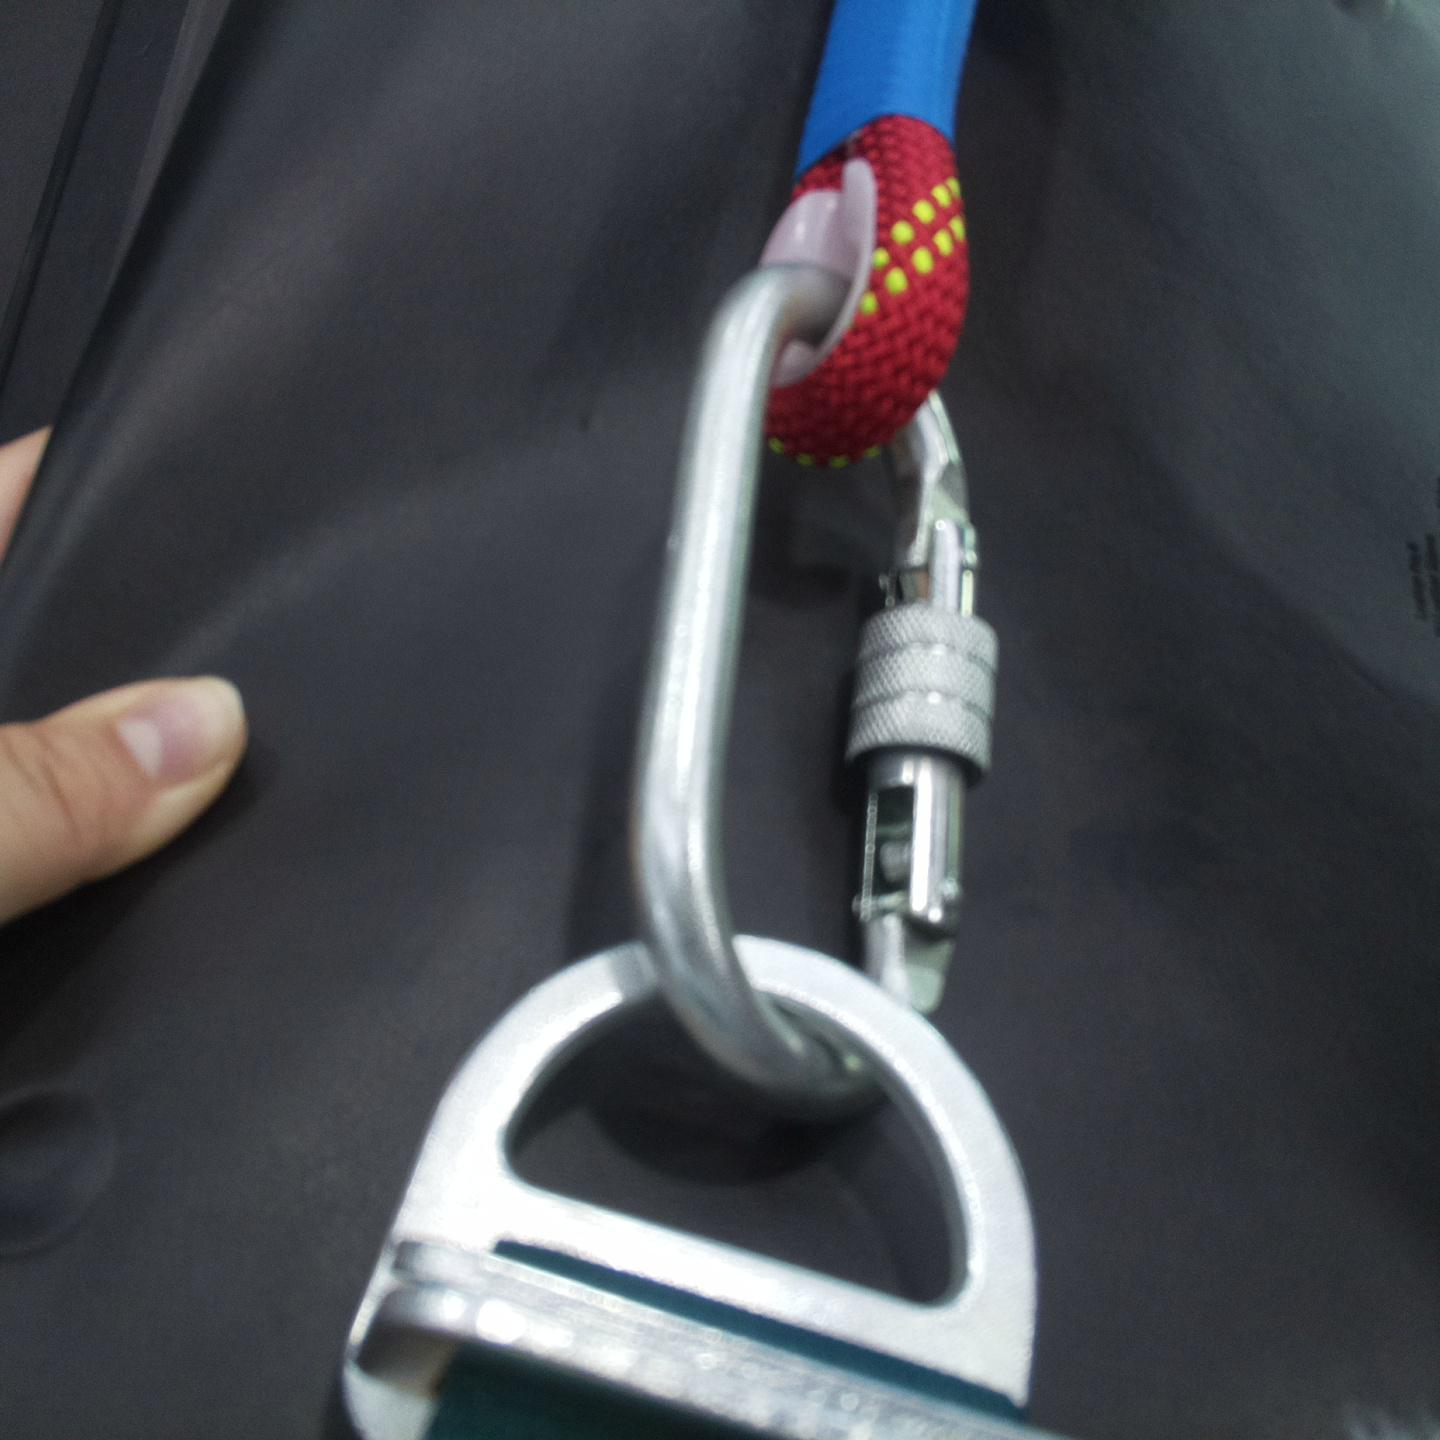SUCCESS: (364, 579, 1047, 1391)
